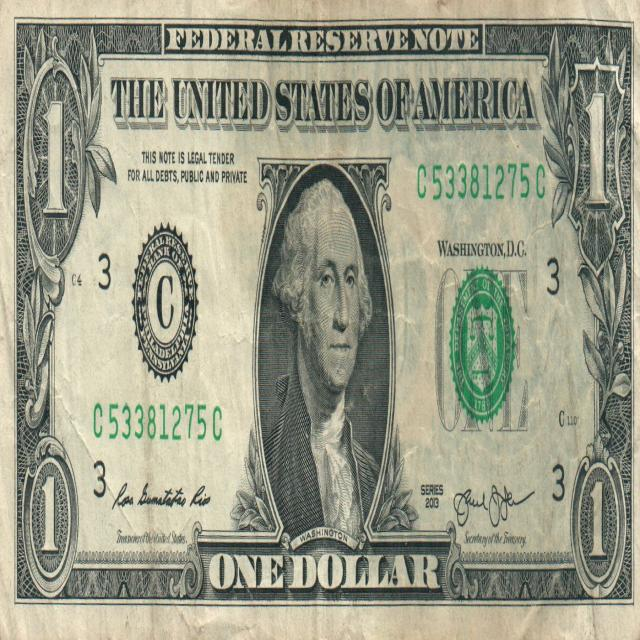SerialNumber: (94, 403, 221, 441), (418, 163, 545, 200)
